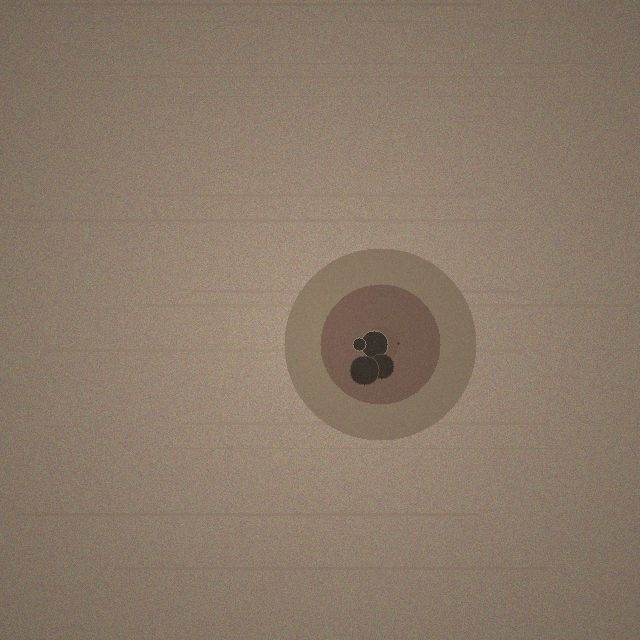shrinkage: (284, 248, 476, 440)
